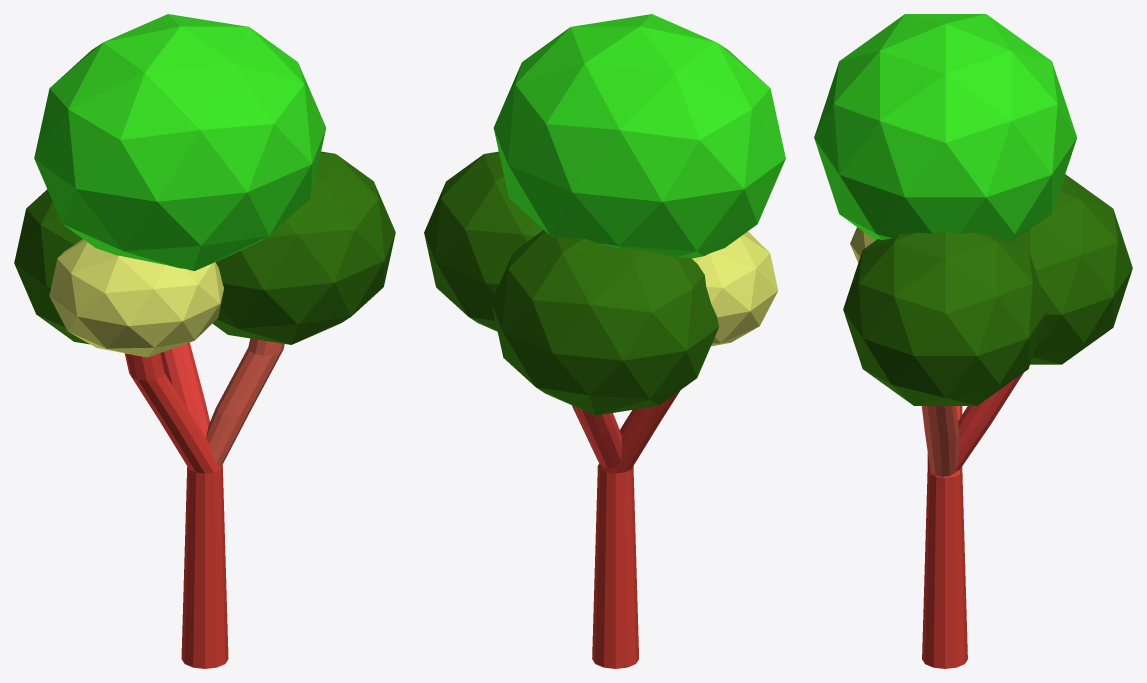
File: tree2.glb
3 views of the same model, side by side, from view 1: azimuth 30°, elevation 25°; view 2: azimuth 150°, elevation 25°; view 3: azimuth 270°, elevation 25° (orthographic). The views are drawn at different scales.
Visible parts, largest first — view 1: Icosphere.004, Icosphere.002, Icosphere.001, Cylinder, Icosphere.000, Cylinder.001, Cylinder.002; view 2: Icosphere.004, Icosphere.000, Icosphere.002, Cylinder, Icosphere.001, Cylinder.002; view 3: Icosphere.004, Icosphere.002, Icosphere.000, Cylinder, Cylinder.001, Cylinder.002.
Part boxes in pixels (x1,y1,x2,y2): Icosphere.004: (34, 14, 326, 270); Icosphere.002: (212, 151, 395, 344); Icosphere.001: (49, 239, 223, 357); Cylinder: (124, 353, 228, 668); Icosphere.000: (14, 189, 89, 344); Cylinder.001: (206, 338, 284, 466); Cylinder.002: (160, 342, 209, 437); Icosphere.004: (493, 14, 785, 258); Icosphere.000: (491, 230, 718, 415); Icosphere.002: (424, 151, 543, 331); Cylinder: (592, 390, 680, 668); Icosphere.001: (692, 231, 778, 346); Cylinder.002: (575, 407, 622, 468); Icosphere.004: (814, 14, 1076, 240); Icosphere.002: (843, 231, 1047, 405); Icosphere.000: (1015, 174, 1132, 364); Cylinder: (922, 406, 967, 668); Cylinder.001: (921, 406, 959, 476); Cylinder.002: (956, 373, 1023, 471).
Bounding box in the file's own units: 8.54 × 16.04 × 7.43.
